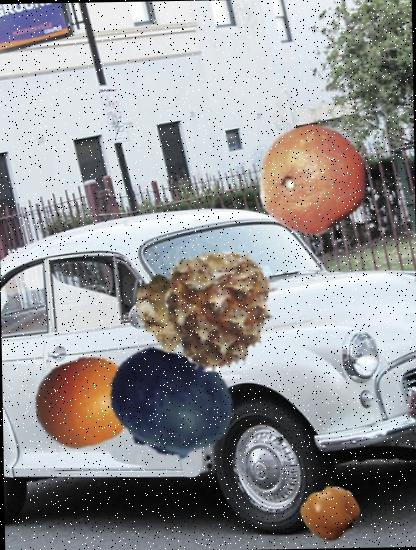Clementine: (254, 121, 372, 240)
Ginger: (133, 270, 214, 351)
Grapefruit: (33, 349, 137, 453)
Huckleberry: (105, 338, 235, 468)
Mulberry: (178, 306, 246, 374)
Pepper: (301, 484, 358, 540)
Pineapple: (157, 249, 282, 374)
